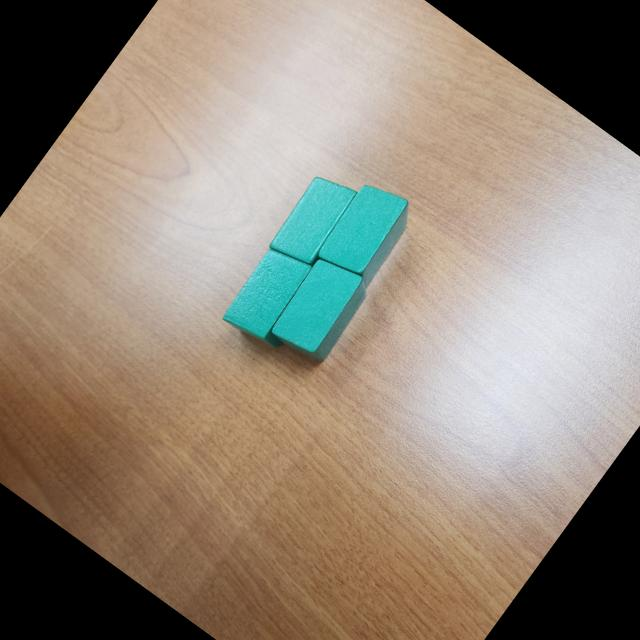green: (262, 248, 378, 370), (312, 173, 422, 291), (218, 238, 328, 356), (265, 164, 365, 275)
